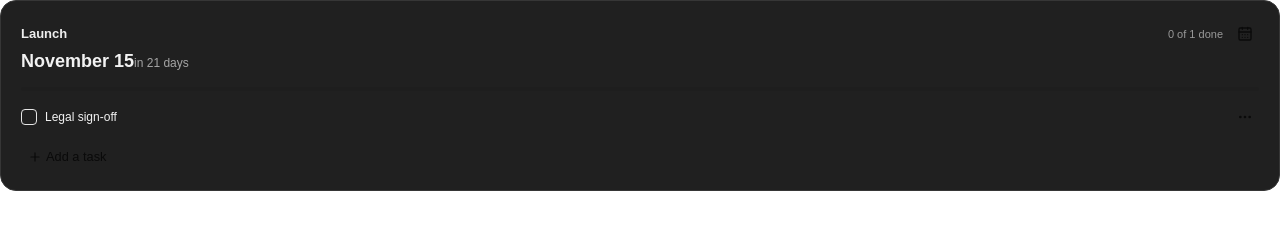
Test case: TeamspaceLaunchCard › says the checklist went read-only when Go refuses a write 409
Click the checkbox named "Legal sign-off" at [29, 117], box [21,109,37,125]
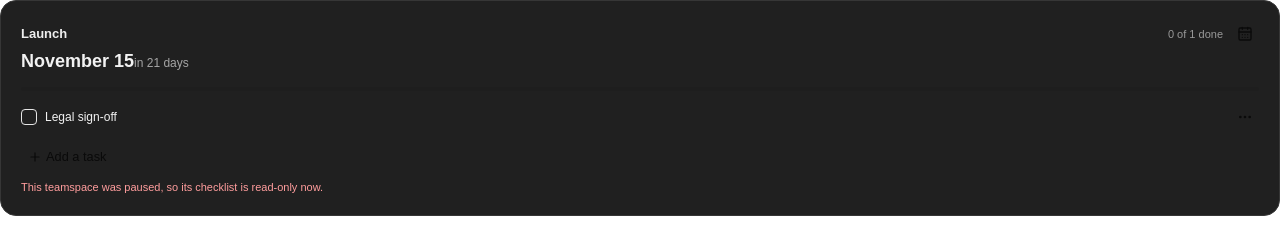
Now the text "This teamspace was paused, so its checklist is read-only now." is shown, box [21,181,323,193]
